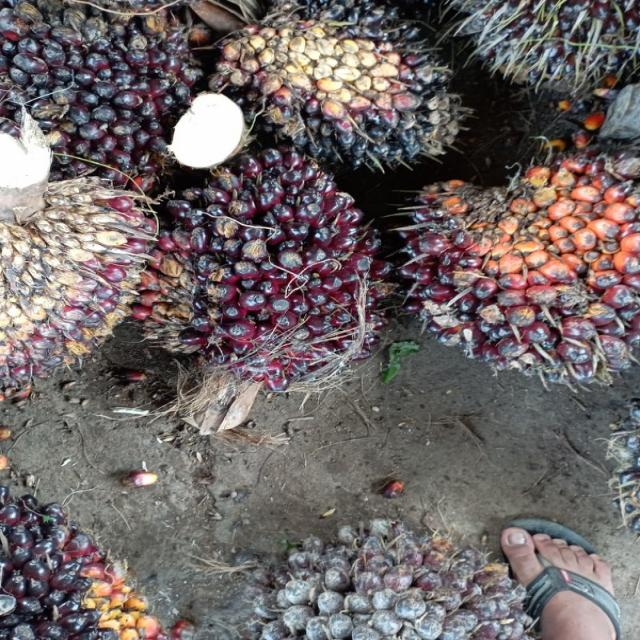fraksi 00: (215, 0, 462, 165), (0, 0, 201, 176)
fraksi 1: (150, 153, 392, 394)
fraksi 3: (413, 162, 640, 389)
